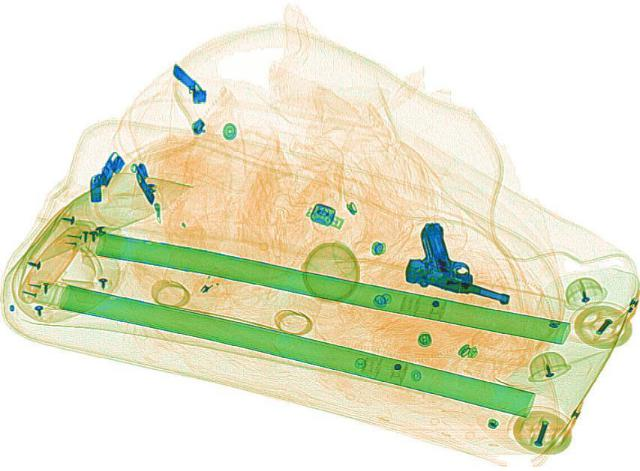Gun: (386, 215, 512, 320)
